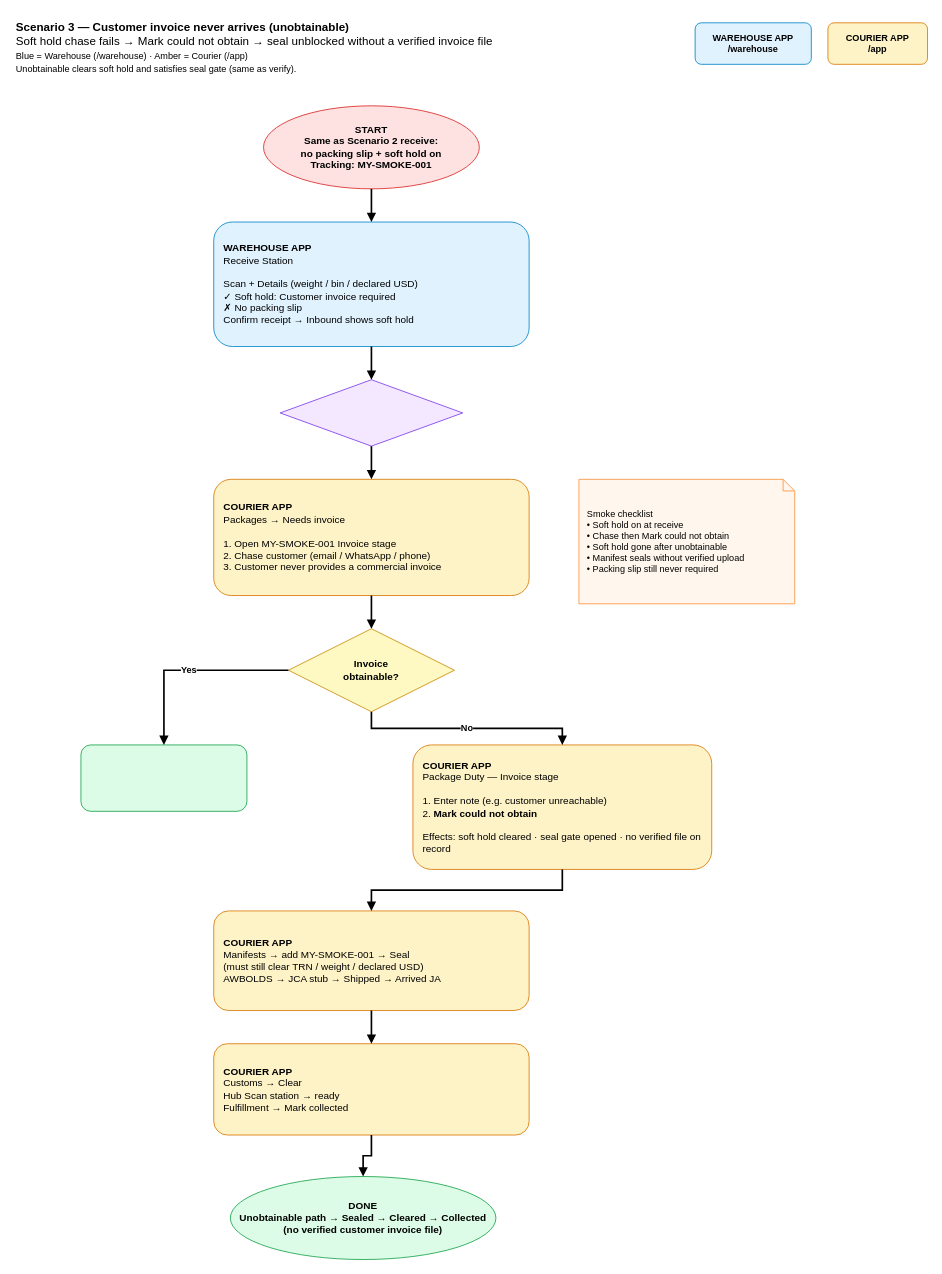
This 942x1274 diagram has some shape labels left out. The centre of each missing label's shape, as x and y in pixels:
"HANDOFF → Courier" belongs at (371,412).
"Yes → Scenario 2 Upload + Verify Do NOT mark unobtainable" belongs at (163,777).
